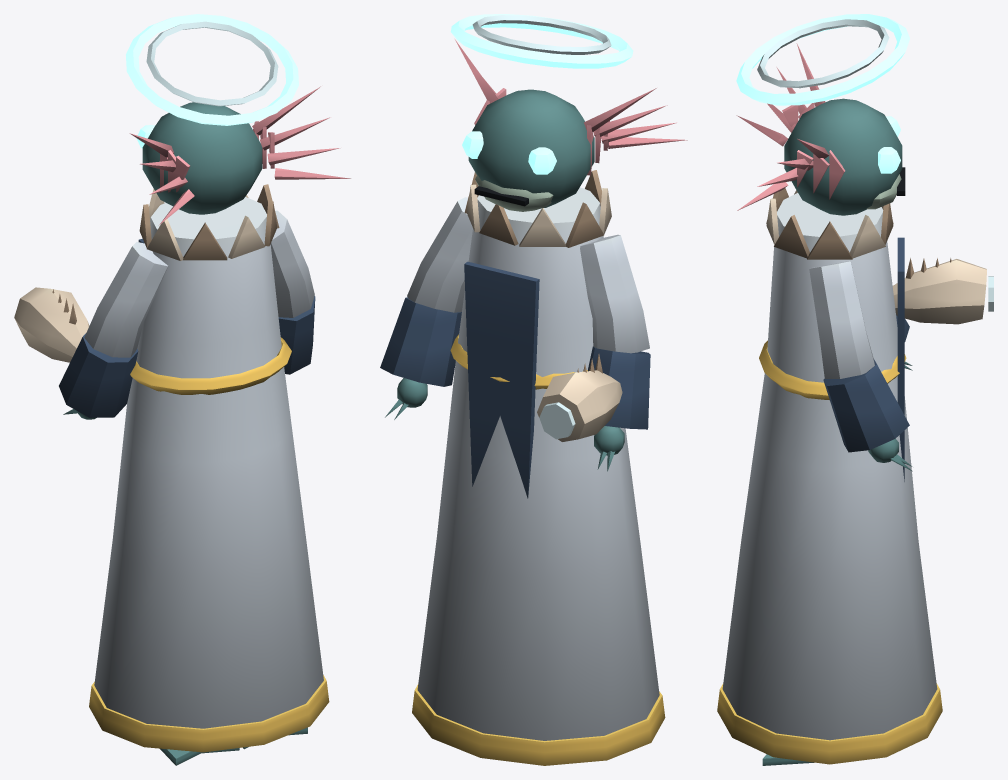
File: mob_tide_cantor.fbx
3 views of the same model, side by side, from view 1: azimuth 30°, elevation 25°; view 2: azimuth 150°, elevation 25°; view 3: azimuth 270°, elevation 25° (orthographic). The views are drawn at different scales.
Visible parts, largest first — view 1: Body, Head, ForearmL, ArmL, ExtraRing_Glow_Aqua, ArmR, ExtraRing_Glow_Pearl, ForearmR; view 2: Body, Head, ForearmL, ForearmR, ArmL, ArmR, ExtraRing_Glow_Aqua, ExtraRing_Glow_Pearl, Head_Glow_Aqua, ForearmL_Glow_Pearl; view 3: Body, Head, ArmR, ForearmR, ForearmL, ExtraRing_Glow_Aqua, ExtraRing_Glow_Pearl, Head_Glow_Aqua.
Part boxes in pixels (bbox=[...]): Body: bbox=[89, 184, 329, 752]; Head: bbox=[129, 86, 350, 224]; ForearmL: bbox=[14, 287, 138, 419]; ArmL: bbox=[84, 242, 167, 357]; ExtraRing_Glow_Aqua: bbox=[126, 14, 298, 125]; ArmR: bbox=[270, 210, 314, 317]; ExtraRing_Glow_Pearl: bbox=[146, 21, 278, 106]; ForearmR: bbox=[278, 296, 315, 374]; Body: bbox=[412, 170, 665, 765]; Head: bbox=[455, 39, 687, 211]; ForearmL: bbox=[537, 346, 650, 471]; ForearmR: bbox=[380, 297, 461, 419]; ArmL: bbox=[580, 234, 649, 353]; ArmR: bbox=[407, 197, 472, 312]; ExtraRing_Glow_Aqua: bbox=[450, 14, 633, 68]; ExtraRing_Glow_Pearl: bbox=[472, 15, 611, 54]; Head_Glow_Aqua: bbox=[462, 131, 556, 174]; ForearmL_Glow_Pearl: bbox=[539, 402, 575, 439]; Body: bbox=[717, 188, 942, 764]; Head: bbox=[736, 43, 905, 215]; ArmR: bbox=[809, 261, 874, 378]; ForearmR: bbox=[823, 359, 912, 471]; ForearmL: bbox=[892, 258, 986, 370]; ExtraRing_Glow_Aqua: bbox=[736, 14, 909, 105]; ExtraRing_Glow_Pearl: bbox=[757, 19, 889, 88]; Head_Glow_Aqua: bbox=[878, 116, 900, 173].
Bounding box in the file's own units: 219 × 574 × 206.
Materials: 3 (1 with a texture image).
